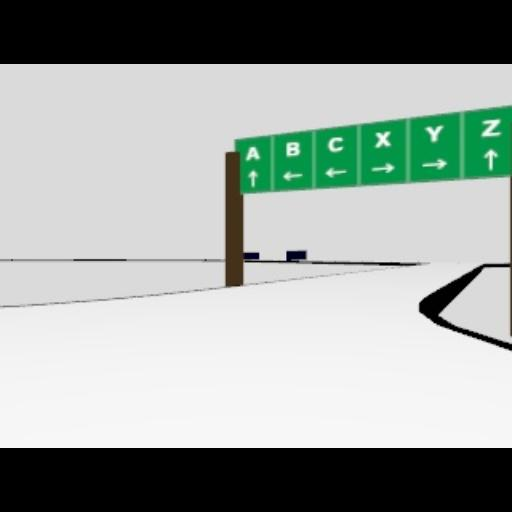A: (245, 146, 259, 160)
B: (285, 141, 299, 157)
C: (326, 136, 344, 152)
Left: (323, 166, 347, 178), (282, 171, 302, 181)
Right: (421, 158, 447, 170), (369, 162, 395, 172)
Straight: (483, 148, 497, 170), (246, 169, 258, 187)
X: (374, 129, 390, 147)
Y: (424, 125, 444, 143)
Z: (480, 118, 500, 136)
